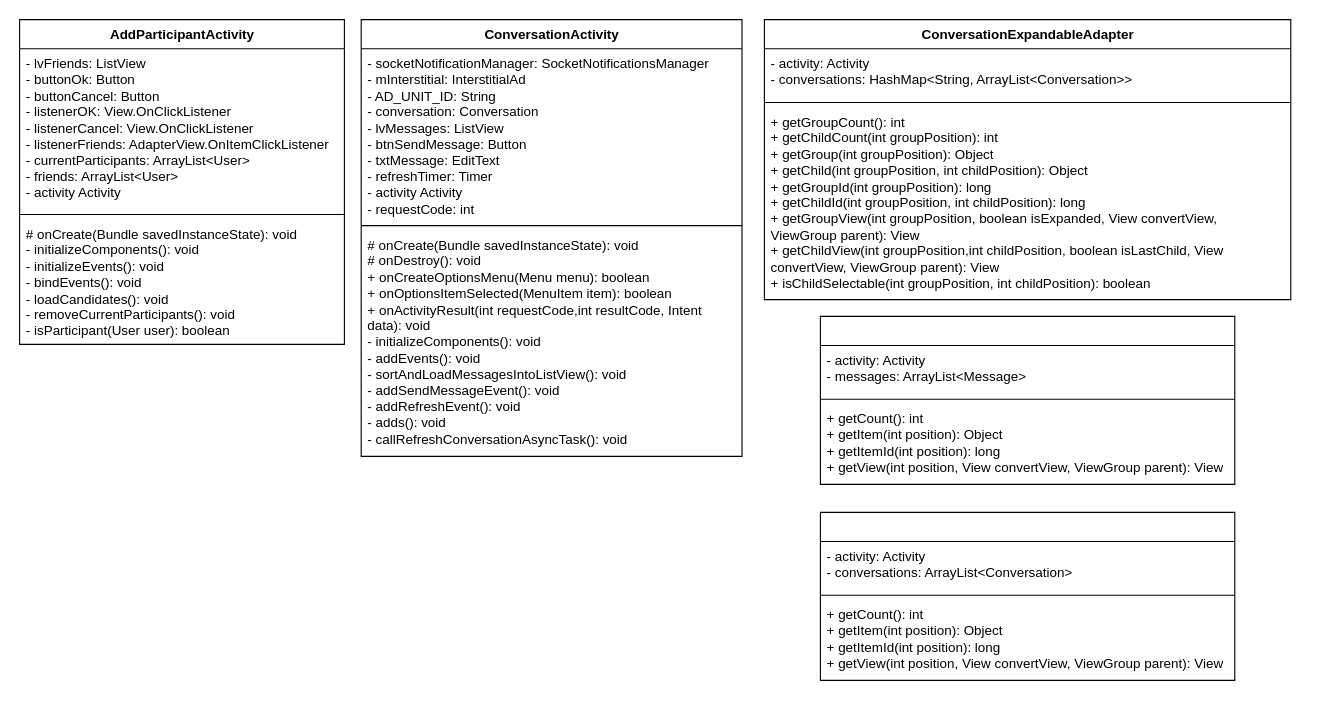
The diagram is 1320 pixels wide and 703 high, and some of its shapes have lost their labels. The shapes that lost their labels are listed below. From the top down, each one's box as (x1, y1, x2, y2) in pixels, then its label:
(819, 315, 1235, 484): MessagesListAdapter
(819, 511, 1235, 680): ConversationListAdapter
